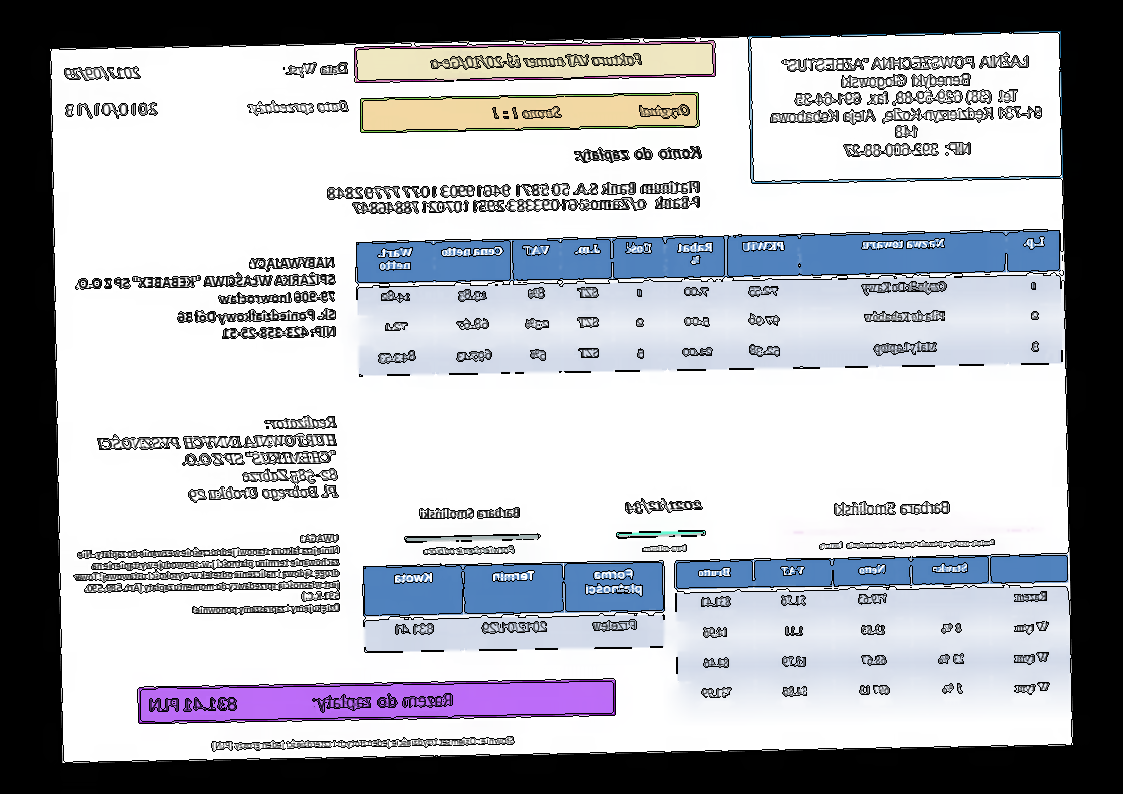Table: (355, 229, 1064, 377), (674, 553, 1071, 712), (361, 559, 666, 654)
TextBox: (767, 49, 1046, 161), (72, 532, 342, 620), (73, 255, 338, 344), (94, 413, 341, 504), (324, 178, 703, 218), (147, 690, 456, 717), (209, 734, 518, 754), (489, 101, 693, 124), (428, 51, 644, 71), (571, 142, 704, 165), (816, 536, 998, 552), (832, 497, 951, 517), (246, 97, 351, 117), (65, 100, 159, 121), (623, 495, 704, 517), (418, 505, 523, 521), (64, 63, 143, 83), (282, 60, 350, 80), (423, 544, 517, 557), (641, 542, 689, 553)
